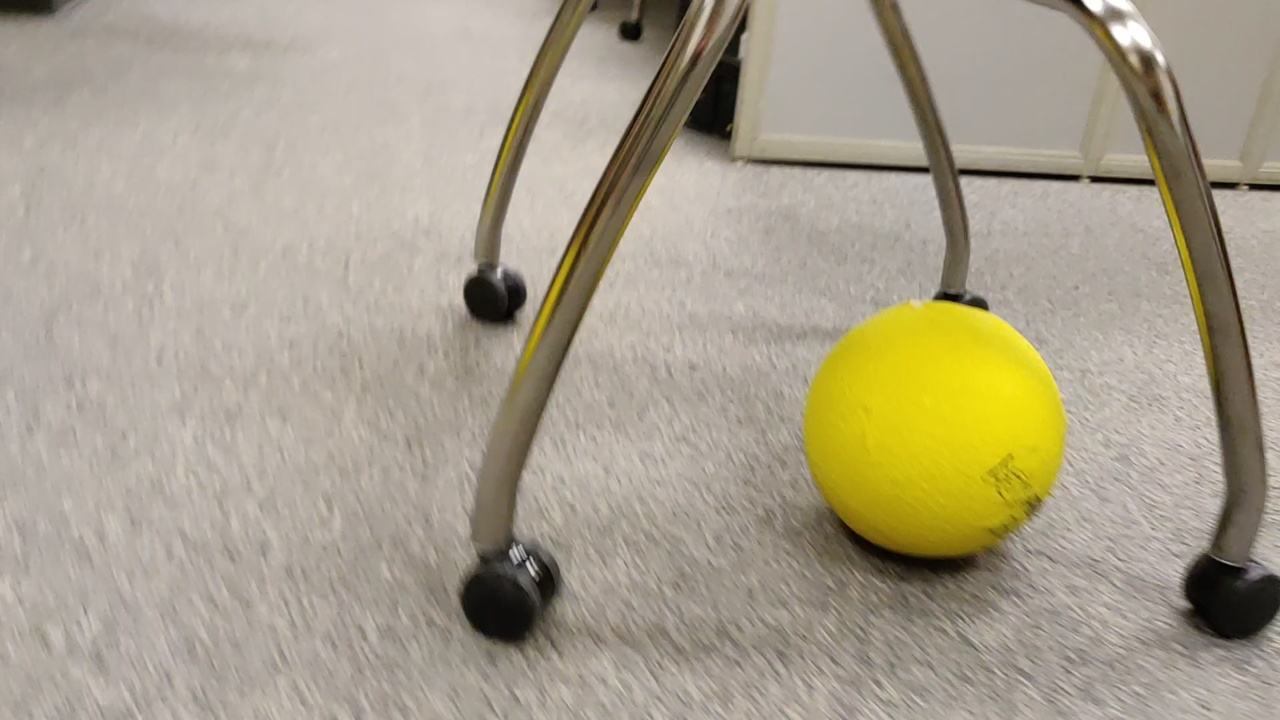Ball: (800, 300, 1072, 561)
